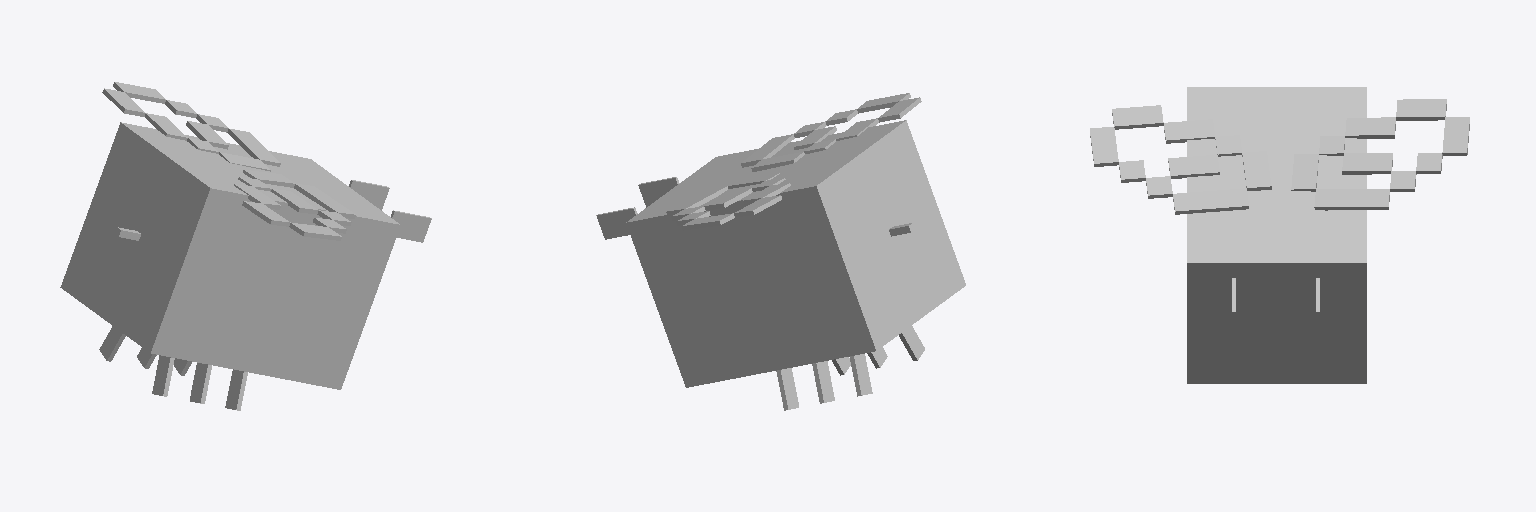
The model's file is Bee_ (121).obj.
The picture shows the model from 3 angles: view 1: azimuth 30°, elevation 25°; view 2: azimuth 150°, elevation 25°; view 3: azimuth 270°, elevation 25°; orthographic projection.
Parts seen in each view (by area): view 1: b_Bee_MAT_0, r_Bee_MAT_0, l_Bee_MAT_0; view 2: b_Bee_MAT_0, l_Bee_MAT_0, r_Bee_MAT_0; view 3: b_Bee_MAT_0, r_Bee_MAT_0, l_Bee_MAT_0.
Boxes of the visible parts, box(x1,y1,x2,y2) form: b_Bee_MAT_0: box(60, 122, 431, 410); r_Bee_MAT_0: box(102, 82, 280, 171); l_Bee_MAT_0: box(234, 170, 355, 240); b_Bee_MAT_0: box(596, 120, 965, 410); l_Bee_MAT_0: box(741, 93, 921, 171); r_Bee_MAT_0: box(666, 173, 790, 230); b_Bee_MAT_0: box(1187, 87, 1366, 383); r_Bee_MAT_0: box(1291, 99, 1469, 210); l_Bee_MAT_0: box(1090, 105, 1271, 214).
Size of the model in its own units: 0.3061 by 0.2392 by 0.3321.